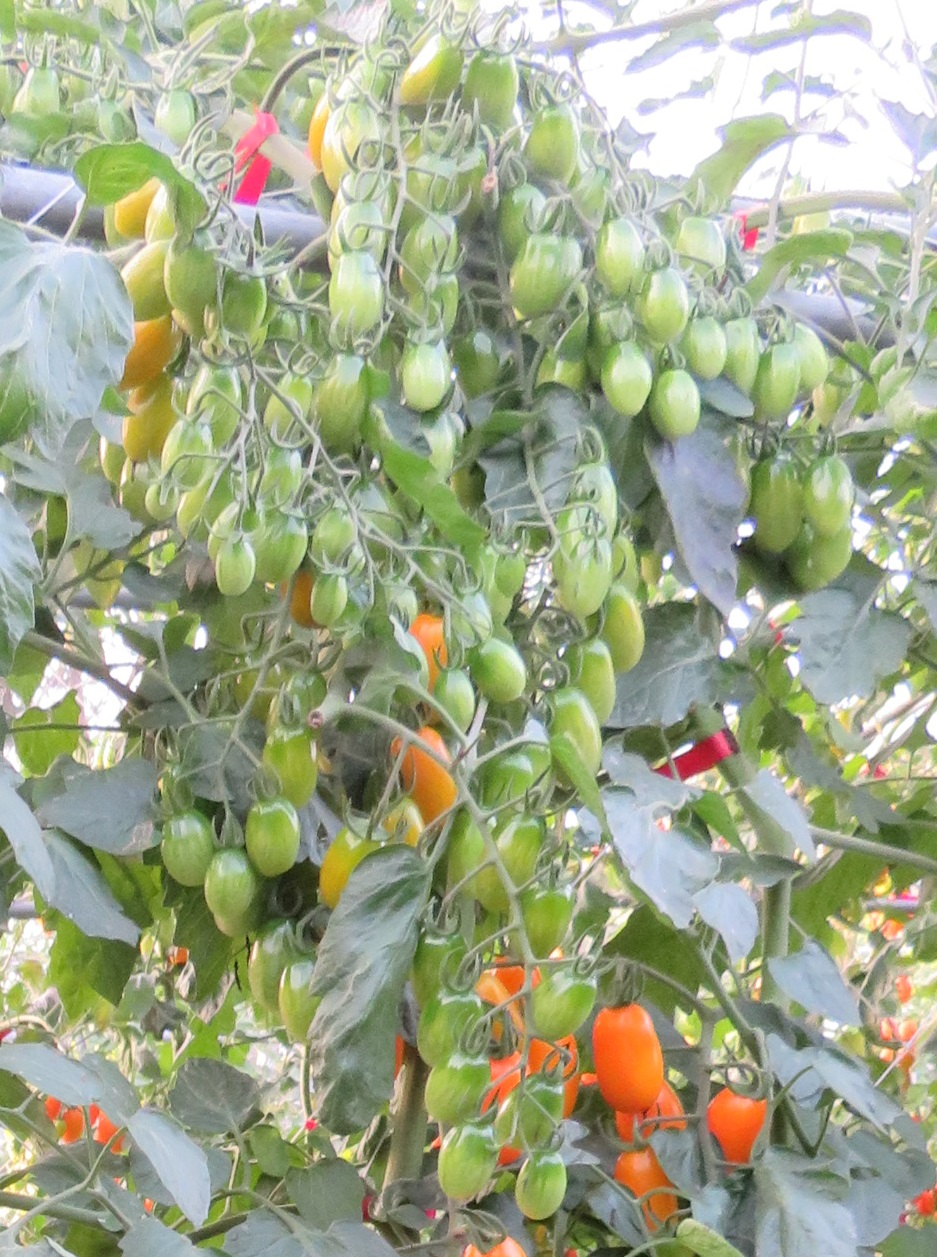green: (477, 809, 546, 915), (796, 450, 861, 545), (523, 965, 598, 1044), (744, 457, 803, 552), (248, 914, 307, 1009), (510, 233, 575, 317), (436, 1120, 498, 1206), (327, 253, 386, 343), (424, 1052, 492, 1128), (163, 228, 219, 317), (549, 690, 603, 781), (558, 537, 614, 623), (417, 990, 487, 1057), (259, 726, 318, 805), (505, 1074, 564, 1152), (399, 30, 462, 103), (259, 364, 317, 443), (467, 48, 523, 127), (508, 891, 573, 959), (398, 205, 460, 276), (244, 796, 298, 876), (399, 332, 449, 417), (348, 474, 401, 553), (244, 446, 303, 516), (322, 101, 386, 165), (647, 368, 700, 445), (758, 336, 801, 430), (480, 750, 540, 817), (598, 349, 655, 419), (158, 806, 207, 887), (569, 639, 617, 721), (595, 221, 646, 298), (201, 846, 254, 919), (255, 514, 307, 588), (469, 639, 530, 701), (515, 1150, 567, 1222), (160, 415, 212, 485), (529, 111, 577, 185), (607, 585, 645, 676), (122, 239, 170, 309), (726, 314, 765, 400), (643, 271, 688, 344), (535, 344, 585, 408), (236, 653, 284, 719), (279, 958, 315, 1045), (272, 670, 328, 725), (223, 265, 266, 336), (792, 538, 853, 588), (191, 364, 242, 423), (574, 458, 616, 528), (435, 669, 476, 738), (413, 269, 462, 325), (332, 206, 390, 253), (682, 221, 724, 285), (688, 320, 728, 385), (332, 161, 388, 207), (307, 572, 350, 631), (314, 506, 354, 568), (801, 320, 836, 390), (22, 61, 62, 118), (217, 538, 252, 598), (158, 83, 193, 140), (97, 101, 136, 149), (142, 478, 181, 522), (492, 553, 527, 599)
orange: (588, 1005, 665, 1117), (304, 354, 370, 451), (394, 727, 458, 821), (615, 1145, 681, 1234), (702, 1099, 772, 1160), (120, 318, 173, 394), (464, 1235, 526, 1257), (61, 1112, 87, 1143), (39, 1096, 63, 1126), (892, 977, 915, 1001), (901, 1021, 918, 1044)
